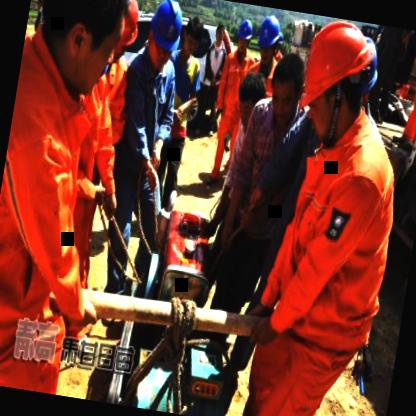head: (24, 0, 133, 110), (264, 46, 310, 132), (232, 66, 271, 133), (180, 15, 206, 57), (212, 19, 230, 49)
helmet: (288, 16, 382, 147), (95, 0, 144, 76), (146, 0, 184, 64), (254, 14, 286, 65), (232, 15, 254, 58)
